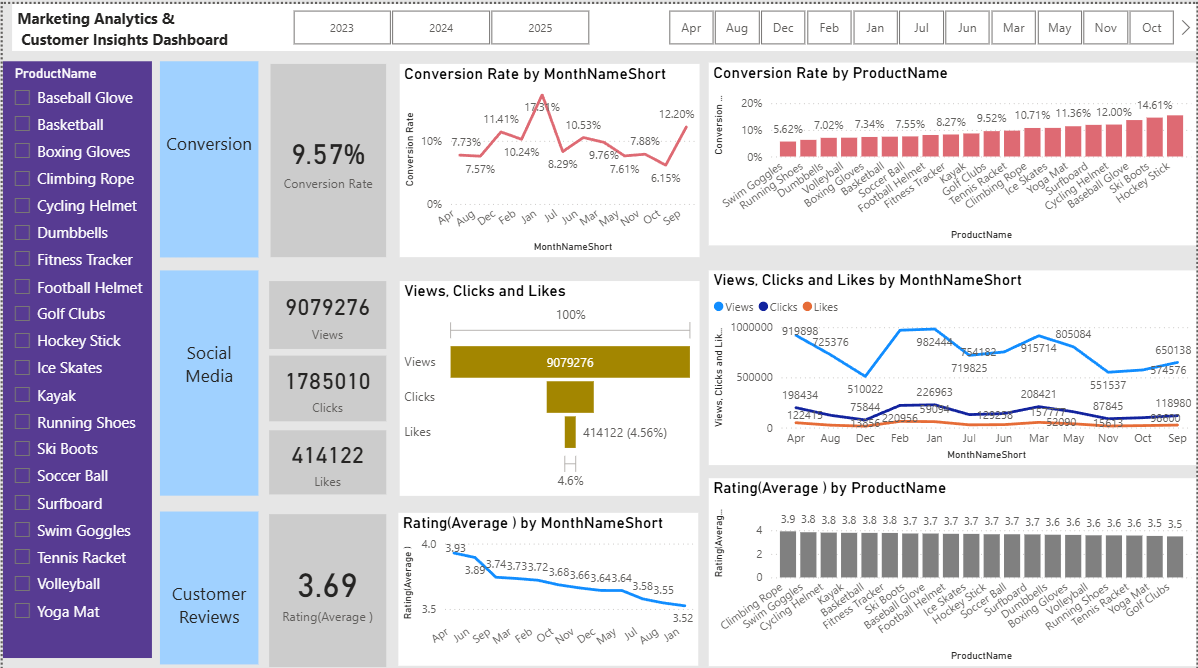

Layout of this report page (visuals, bound fields, positions):
{"tool":"powerbi","page":{"name":"Page 1","canvas":[1280,720],"ordinal":0},"visuals":[{"type":"textbox","box":[10,0,1270,50],"z":0},{"type":"slicer","fields":{"Values":["dim_products.ProductName"]},"box":[0,61.4,160,640],"z":1000},{"type":"textbox","box":[168.6,61.4,105.7,210],"z":2000},{"type":"textbox","box":[168.6,285.7,105.7,241.4],"z":3000},{"type":"textbox","box":[168.6,544.3,105.7,164.3],"z":4000},{"type":"card","fields":{"Values":["_Calculations.Views"]},"box":[285.7,297.1,125.7,72.9],"z":5000},{"type":"card","fields":{"Values":["_Calculations.Conversion Rate"]},"box":[287.1,64.3,124.3,207.1],"z":6000},{"type":"card","fields":{"Values":["_Calculations.Clicks"]},"box":[285.7,377.1,125.7,70],"z":7000},{"type":"card","fields":{"Values":["_Calculations.Likes"]},"box":[285.7,457.1,125.7,68.6],"z":8000},{"type":"card","fields":{"Values":["_Calculations.Rating(Average )"]},"box":[285.7,547.1,125.7,164.3],"z":9000},{"type":"slicer","fields":{"Values":["Calendar.Year"]},"box":[285.7,0,367.1,50],"z":10000},{"type":"slicer","fields":{"Values":["Calendar.MonthNameShort"]},"box":[688.6,0,591.4,50],"z":11000},{"type":"lineChart","fields":{"Y":["_Calculations.Conversion Rate"],"Category":["Calendar.MonthNameShort"]},"box":[425.7,64.3,321.4,207.1],"z":12000},{"type":"funnel","fields":{"Y":["_Calculations.Views","_Calculations.Clicks","_Calculations.Likes"]},"box":[425.7,297.1,321.4,230],"z":13000},{"type":"columnChart","fields":{"Category":["dim_products.ProductName"],"Y":["_Calculations.Conversion Rate"]},"box":[757.1,62.9,522.9,195.7],"z":14000},{"type":"lineChart","fields":{"Category":["Calendar.MonthNameShort"],"Y":["_Calculations.Rating(Average )"]},"box":[424.3,545.7,321.4,164.3],"z":15000},{"type":"columnChart","fields":{"Category":["dim_products.ProductName"],"Y":["_Calculations.Rating(Average )"]},"box":[757.1,508.6,522.9,201.4],"z":16000},{"type":"lineChart","fields":{"Y":["_Calculations.Views","_Calculations.Clicks","_Calculations.Likes"],"Category":["Calendar.MonthNameShort"]},"box":[757.1,285.7,522.9,208.6],"z":17000}]}

Visuals, with their boxes in screenshot pixels (x1, y1, x2, y2), scaled from the page's 1280x720 canvas onto the 1198x668 screenshot:
textbox: 9/0/1197/46
slicer - dim_products.ProductName: 0/57/150/651
textbox: 158/57/257/252
textbox: 158/265/257/489
textbox: 158/505/257/657
card - _Calculations.Views: 267/276/385/343
card - _Calculations.Conversion Rate: 269/60/385/252
card - _Calculations.Clicks: 267/350/385/415
card - _Calculations.Likes: 267/424/385/488
card - _Calculations.Rating(Average ): 267/508/385/660
slicer - Calendar.Year: 267/0/611/46
slicer - Calendar.MonthNameShort: 644/0/1197/46
lineChart - _Calculations.Conversion Rate x Calendar.MonthNameShort: 398/60/699/252
funnel - _Calculations.Views x _Calculations.Clicks: 398/276/699/489
columnChart - dim_products.ProductName x _Calculations.Conversion Rate: 709/58/1197/240
lineChart - Calendar.MonthNameShort x _Calculations.Rating(Average ): 397/506/698/659
columnChart - dim_products.ProductName x _Calculations.Rating(Average ): 709/472/1197/659
lineChart - _Calculations.Views x _Calculations.Clicks: 709/265/1197/459
